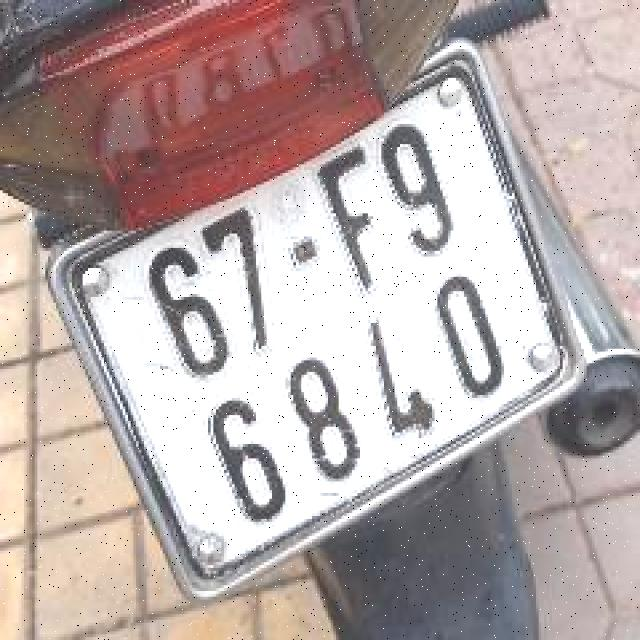0: (427, 268, 504, 412)
4: (368, 304, 432, 451)
6: (200, 372, 304, 545), (136, 245, 237, 398)
7: (193, 192, 290, 356)
8: (288, 326, 363, 484)
9: (375, 114, 452, 272)
F: (304, 147, 381, 291)
